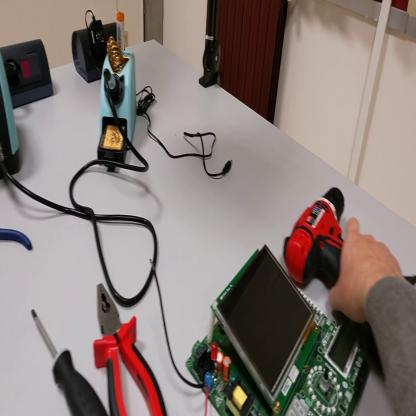electric screwdriver: (278, 184, 416, 359)
hand: (327, 217, 405, 326)
low voltage board: (171, 243, 371, 416)
pliers: (94, 282, 169, 416), (2, 228, 35, 256)
screwdriver-: (32, 309, 110, 416)
socket: (4, 39, 56, 109), (70, 25, 122, 85)
welder base: (98, 9, 138, 176)
welder station: (1, 54, 22, 180)
